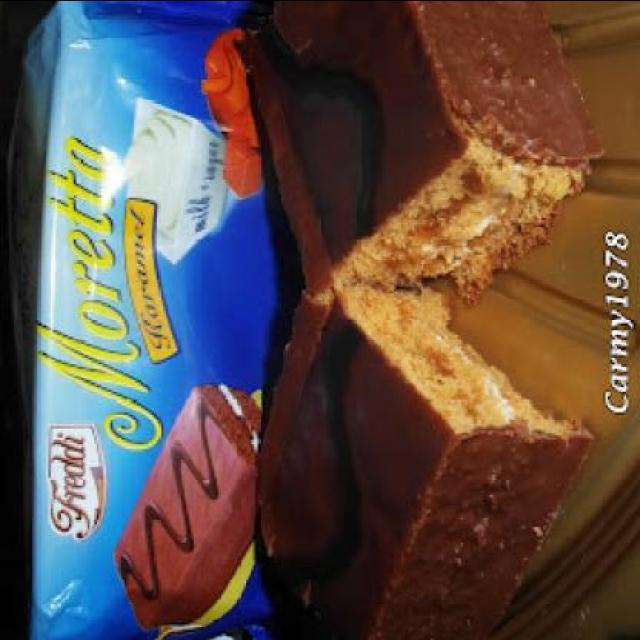Merendine: (26, 2, 294, 638)
Merendine packaged: (256, 2, 602, 633)
